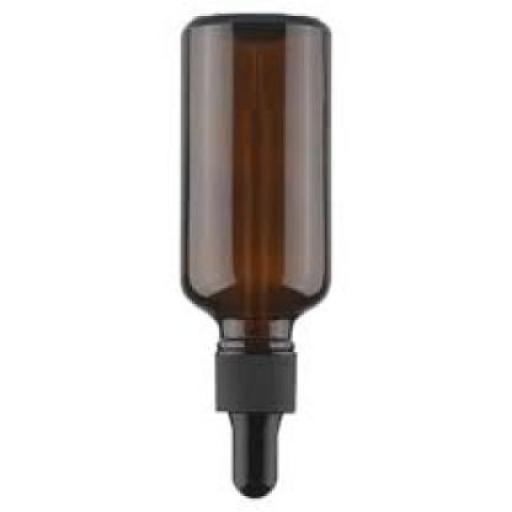glass: (181, 17, 333, 356)
plastic: (218, 355, 301, 502)
